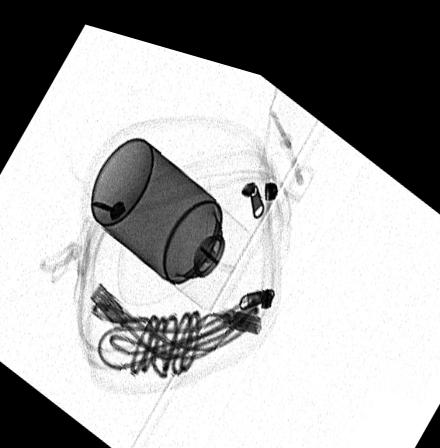Sprayer: (90, 128, 257, 297)
